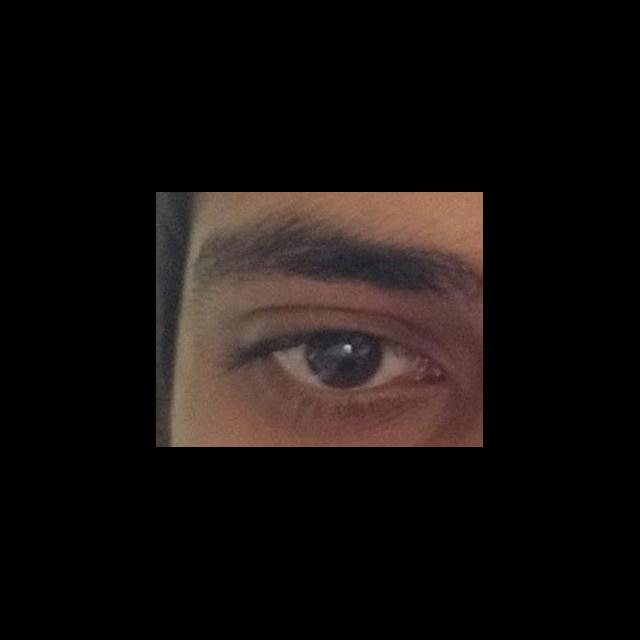eye: (271, 332, 422, 394)
iris: (306, 336, 383, 390)
